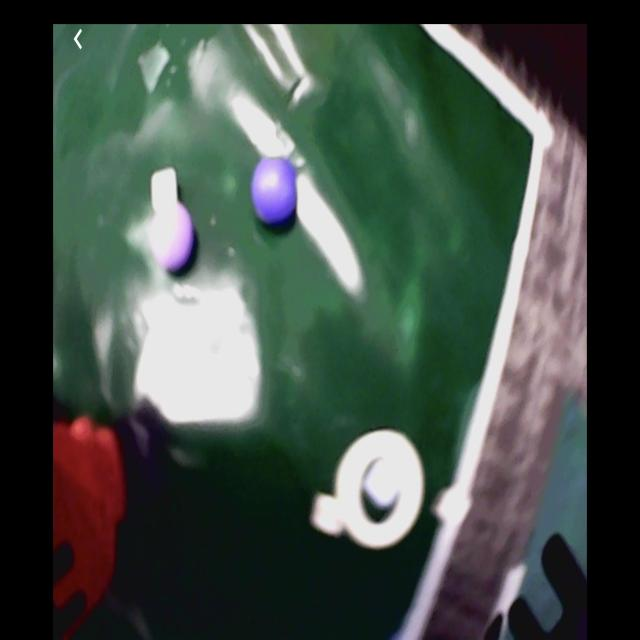ball: (253, 157, 298, 226), (151, 202, 193, 273)
